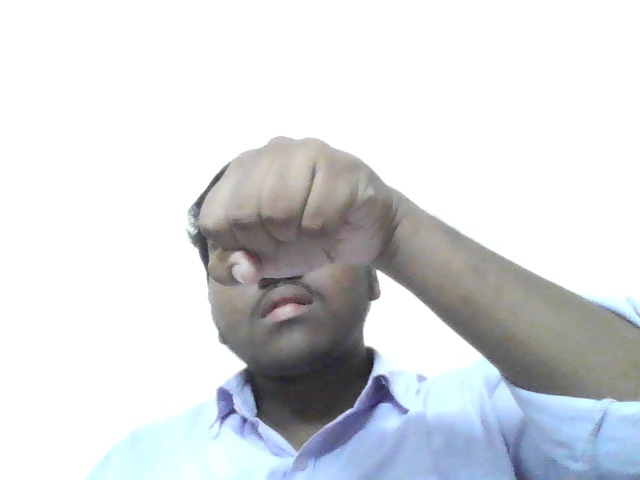Yes: (186, 126, 425, 292)
